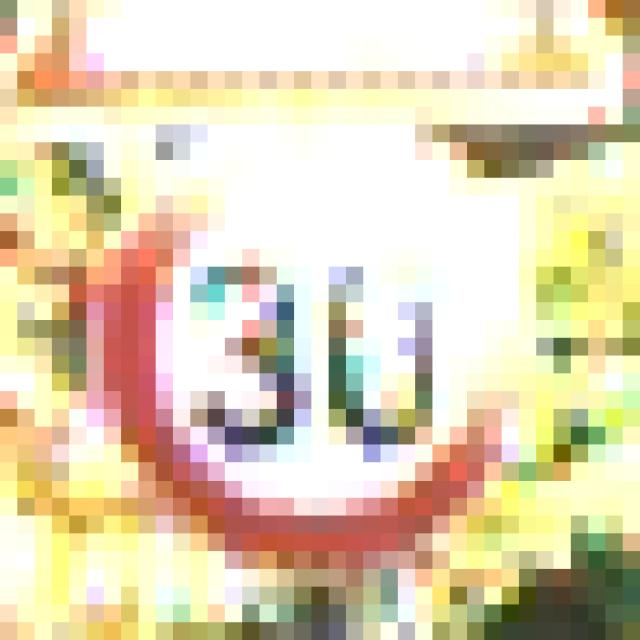Speed Limit -30-: (78, 80, 527, 524)
